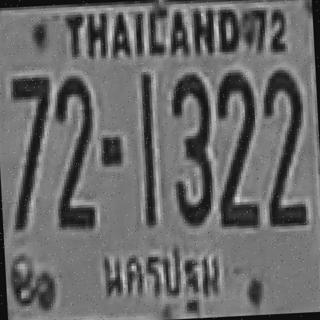N00: (260, 67, 304, 166)
N01: (140, 72, 154, 173)
N02: (214, 122, 258, 224)
N07: (9, 75, 52, 156)
P28: (92, 238, 228, 316)
